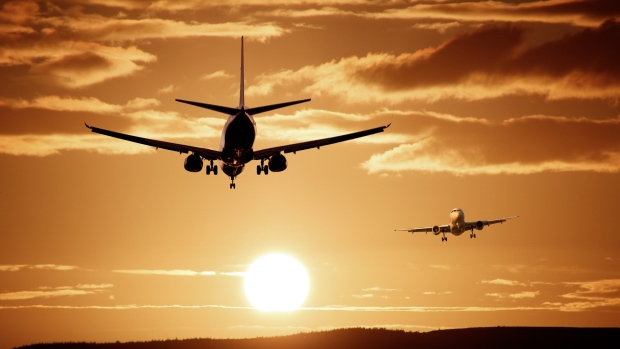plane: (85, 35, 390, 190), (394, 206, 518, 241)
